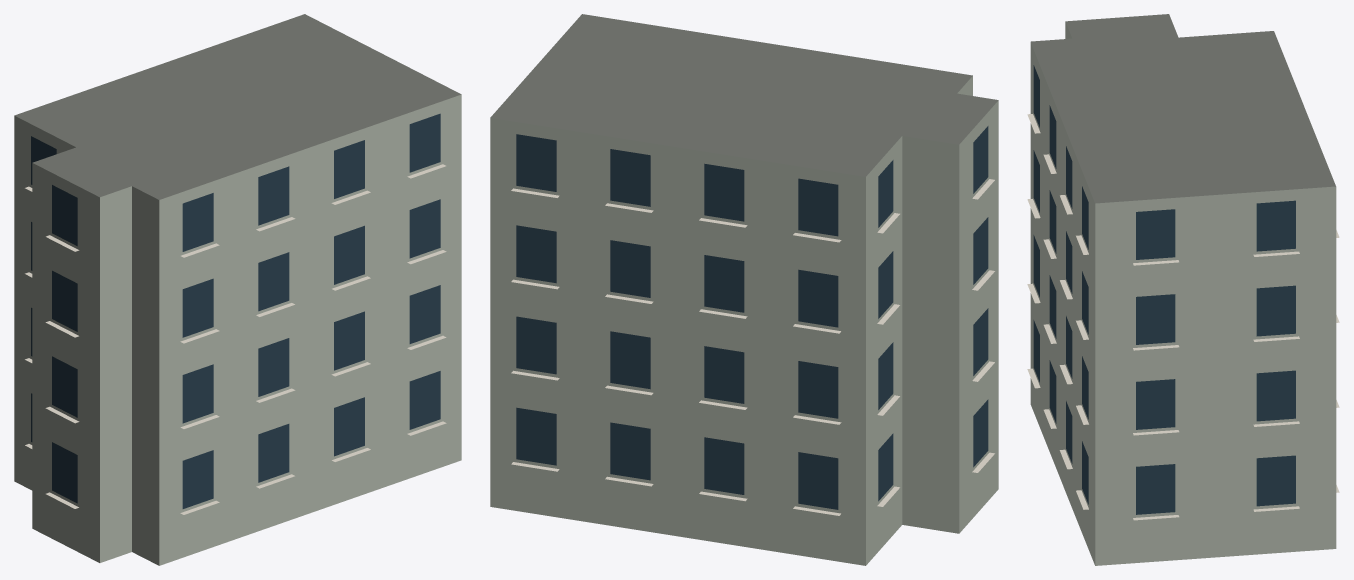
3 views of the same model, side by side, from view 1: azimuth 30°, elevation 25°; view 2: azimuth 150°, elevation 25°; view 3: azimuth 270°, elevation 25° (orthographic). The views are drawn at different scales.
Parts seen in each view (by area): view 1: Footprint 0, Inferred window bays, Window sills; view 2: Footprint 0, Inferred window bays, Window sills; view 3: Footprint 0, Inferred window bays, Window sills.
Boxes of the visible parts, bbox=[...] form: Footprint 0: bbox=[14, 14, 461, 565]; Inferred window bays: bbox=[31, 113, 440, 508]; Window sills: bbox=[25, 164, 446, 514]; Footprint 0: bbox=[490, 14, 998, 565]; Inferred window bays: bbox=[516, 126, 988, 509]; Window sills: bbox=[511, 179, 994, 515]; Footprint 0: bbox=[1030, 14, 1336, 565]; Inferred window bays: bbox=[1033, 65, 1295, 514]; Window sills: bbox=[1027, 114, 1339, 520].
Size of the model in its own units: 14.05 by 12.43 by 9.71.
